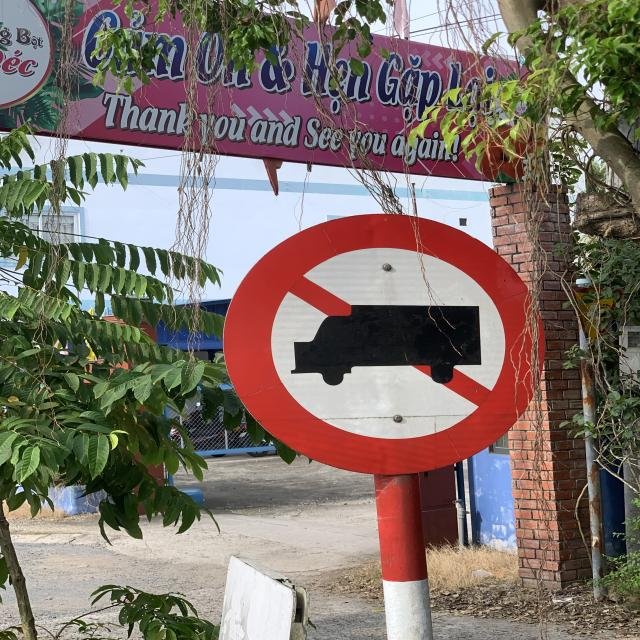Cam_Xe_Tai: (219, 215, 539, 474)
